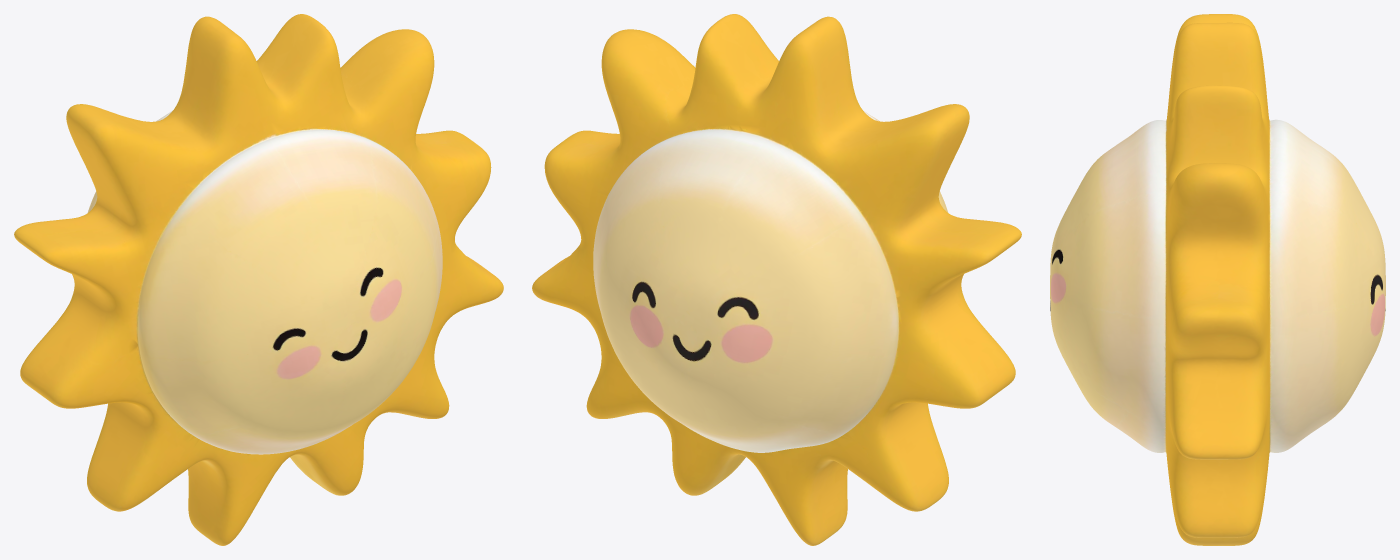
Rendered from Sole.glb.
3 renders of one model, left to right at view 1: azimuth 30°, elevation 25°; view 2: azimuth 150°, elevation 25°; view 3: azimuth 270°, elevation 25°, orthographic. The views are drawn at different scales.
Bounding box in the file's own units: 1.81 × 1.9 × 1.18.
1 material, 1 textured.
